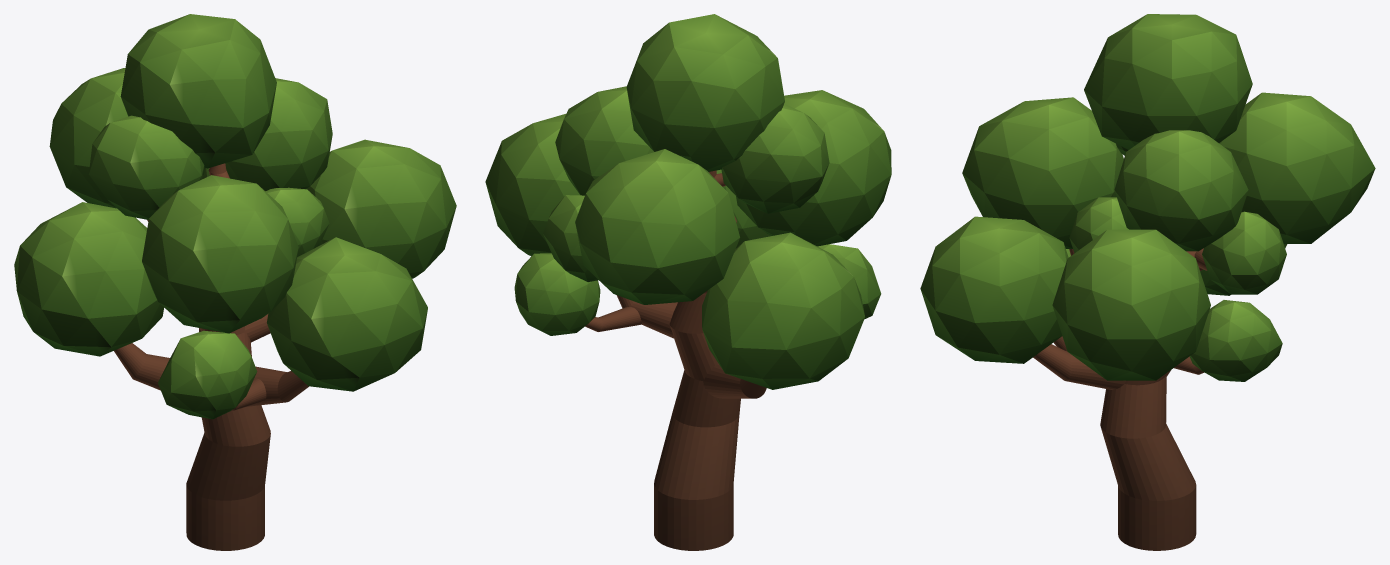
Rendered from env_tree_StellaTan_01.glb.
The picture shows the model from 3 angles, left to right: view 1: azimuth 30°, elevation 25°; view 2: azimuth 150°, elevation 25°; view 3: azimuth 270°, elevation 25°; orthographic projection. The views are drawn at different scales.
Visible parts, largest first — view 1: Icosphere; view 2: Icosphere; view 3: Icosphere.
Boxes of the visible parts, x1,y1,x2,y2 form: Icosphere: (14, 14, 456, 550); Icosphere: (485, 14, 891, 550); Icosphere: (920, 14, 1375, 550).
Bounding box in the file's own units: 11.22 × 14.18 × 11.64.
1 material, 1 textured.
